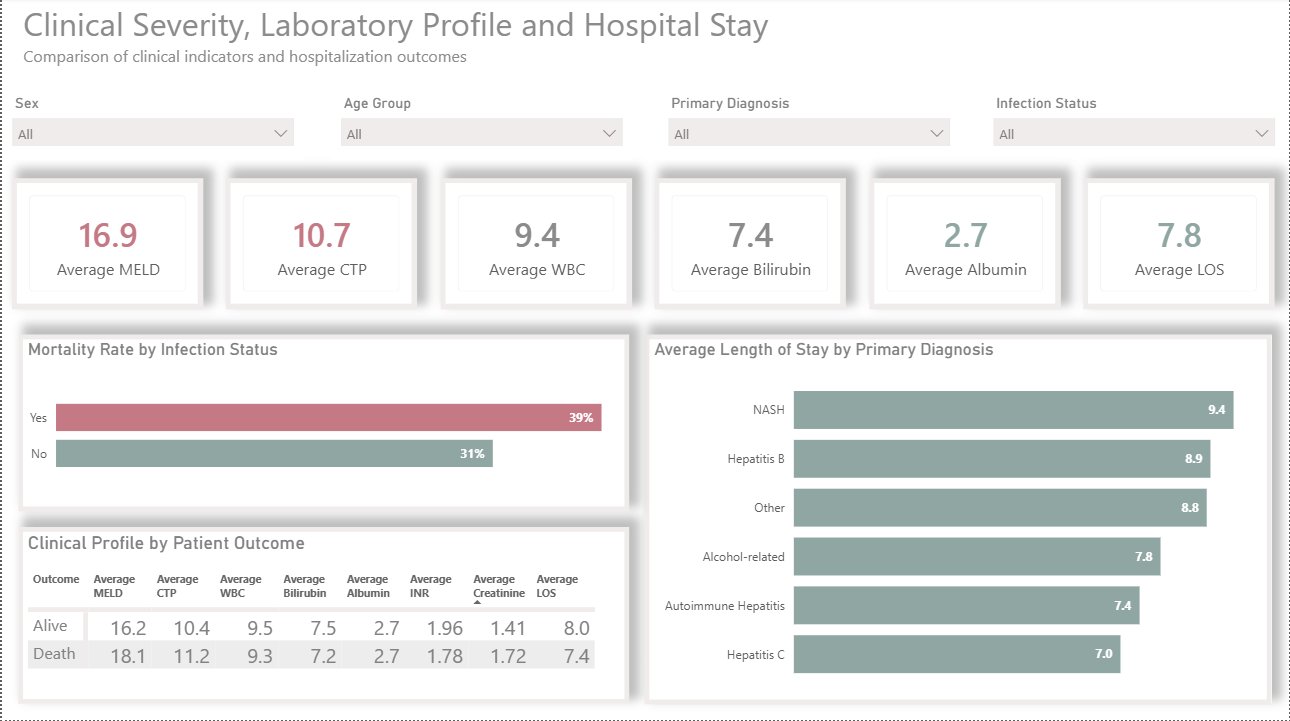

Layout of this report page (visuals, bound fields, positions):
{"tool":"powerbi","page":{"name":"clinical profile","canvas":[1280,720],"ordinal":2},"visuals":[{"type":"cardVisual","fields":{"Data":["KPI Measures.Average CTP"]},"box":[223.2,180,190,130],"z":0},{"type":"cardVisual","fields":{"Data":["KPI Measures.Average MELD"]},"box":[10,180,190,130],"z":1000},{"type":"cardVisual","fields":{"Data":["KPI Measures.Average WBC"]},"box":[436.4,180,190,130],"z":2000},{"type":"cardVisual","fields":{"Data":["KPI Measures.Average Bilirubin"]},"box":[649.6,180,190,130],"z":3000},{"type":"textbox","box":[16,0,832,80],"z":4000},{"type":"slicer","fields":{"Values":["Liver_Data.Sex"]},"box":[0,92,300,70],"z":5000},{"type":"slicer","fields":{"Values":["Liver_Data.Age_Group"]},"box":[326.7,92,300,70],"z":6000},{"type":"slicer","fields":{"Values":["Liver_Data.Primary_Diagnosis"]},"box":[653.3,92,300,70],"z":7000},{"type":"pivotTable","title":"Clinical Profile by Patient Outcome","fields":{"Rows":["Liver_Data.Outcome"],"Values":["KPI Measures.Average MELD","KPI Measures.Average CTP","KPI Measures.Average WBC","KPI Measures.Average Bilirubin","KPI Measures.Average Albumin","KPI Measures.Average INR","KPI Measures.Average Creatinine","KPI Measures.Average LOS"]},"box":[16,528,608,176],"z":8000},{"type":"slicer","fields":{"Values":["Liver_Data.Infection_Status"]},"box":[976,92,300,70],"z":9000},{"type":"cardVisual","fields":{"Data":["KPI Measures.Average Albumin"]},"box":[862.8,180,190,130],"z":10000},{"type":"cardVisual","fields":{"Data":["KPI Measures.Average LOS"]},"box":[1076,180,190,130],"z":11000},{"type":"clusteredBarChart","title":"Average Length of Stay by Primary Diagnosis","fields":{"Category":["Liver_Data.Primary_Diagnosis"],"Y":["KPI Measures.Average LOS"]},"box":[640,336,624,368],"z":12000},{"type":"clusteredBarChart","title":"Mortality Rate by Infection Status","fields":{"Category":["Liver_Data.Infection_Status"],"Y":["KPI Measures.Mortality Rate"]},"box":[16,336,608,176],"z":13000}]}

Visuals, with their boxes in screenshot pixels (x1, y1, x2, y2), scaled from the page's 1280x720 canvas onto the 1290x721 screenshot:
cardVisual - KPI Measures.Average CTP: Rect(225, 180, 416, 310)
cardVisual - KPI Measures.Average MELD: Rect(10, 180, 202, 310)
cardVisual - KPI Measures.Average WBC: Rect(440, 180, 631, 310)
cardVisual - KPI Measures.Average Bilirubin: Rect(655, 180, 846, 310)
textbox: Rect(16, 0, 855, 80)
slicer - Liver_Data.Sex: Rect(0, 92, 302, 162)
slicer - Liver_Data.Age_Group: Rect(329, 92, 632, 162)
slicer - Liver_Data.Primary_Diagnosis: Rect(658, 92, 961, 162)
"Clinical Profile by Patient Outcome" pivotTable: Rect(16, 529, 629, 705)
slicer - Liver_Data.Infection_Status: Rect(984, 92, 1286, 162)
cardVisual - KPI Measures.Average Albumin: Rect(870, 180, 1061, 310)
cardVisual - KPI Measures.Average LOS: Rect(1084, 180, 1276, 310)
"Average Length of Stay by Primary Diagnosis" clusteredBarChart: Rect(645, 336, 1274, 705)
"Mortality Rate by Infection Status" clusteredBarChart: Rect(16, 336, 629, 513)
